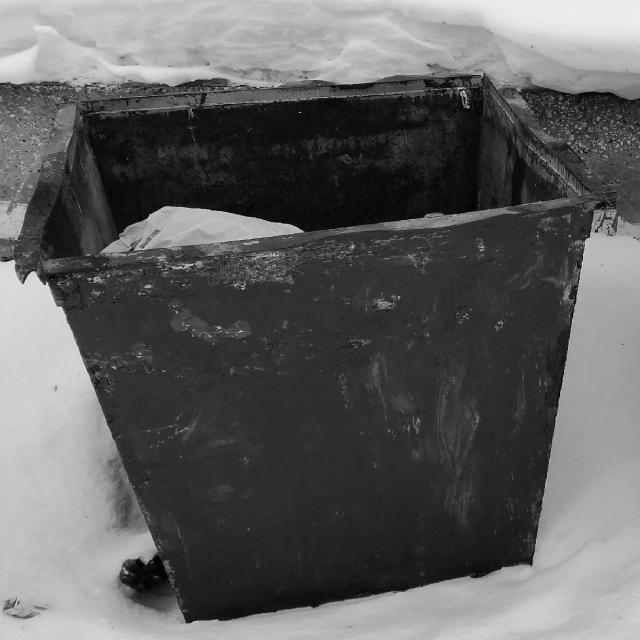Trashcan: (15, 52, 606, 631)
